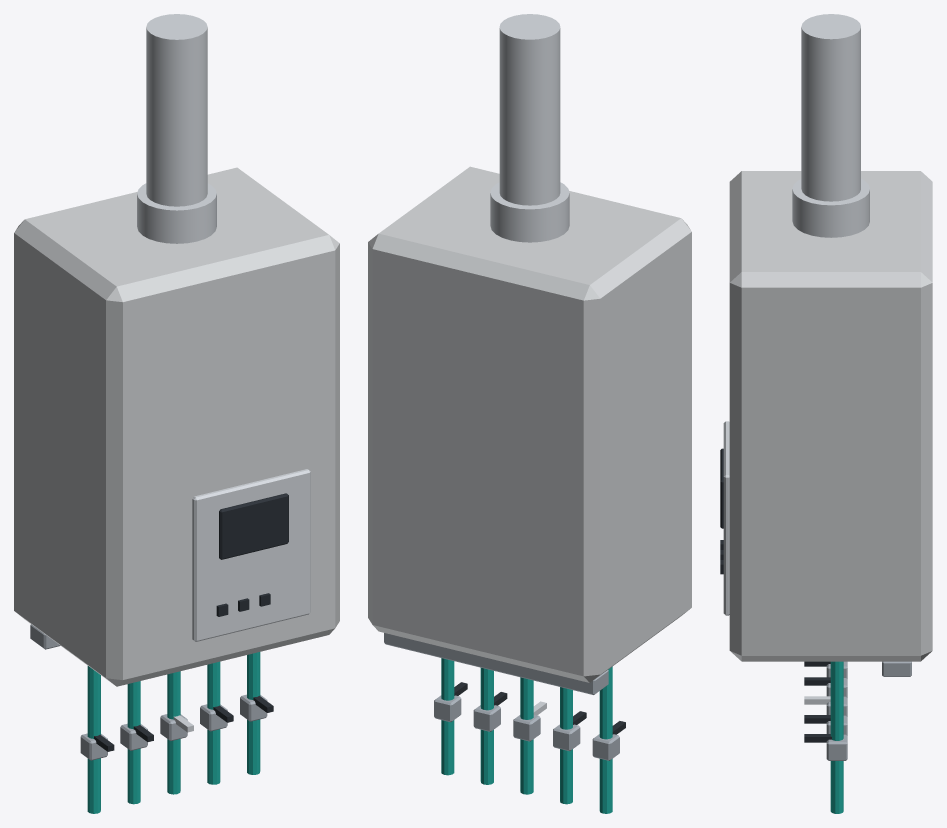
File: wall-boiler.glb
3 renders of one model, left to right at view 1: azimuth 30°, elevation 25°; view 2: azimuth 150°, elevation 25°; view 3: azimuth 270°, elevation 25°, orthographic. The views are drawn at different scales.
Visible parts, largest first — view 1: wall-boiler; view 2: wall-boiler; view 3: wall-boiler.
Boxes of the visible parts, x1,y1,x2,y2 form: wall-boiler: [14, 14, 339, 813]; wall-boiler: [368, 14, 691, 813]; wall-boiler: [720, 14, 932, 813].
Bounding box in the file's own units: 0.44 × 1.38 × 0.356.
